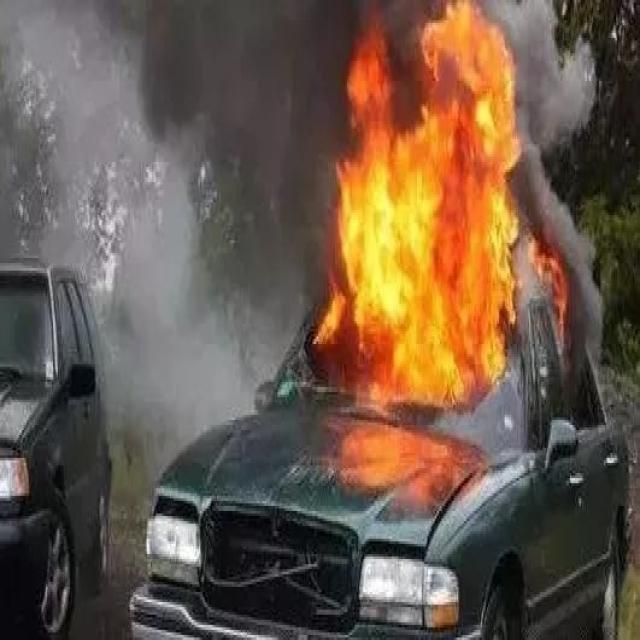Fire: (312, 2, 571, 408)
Smoke: (1, 2, 369, 478), (484, 2, 606, 372), (386, 2, 426, 126)
